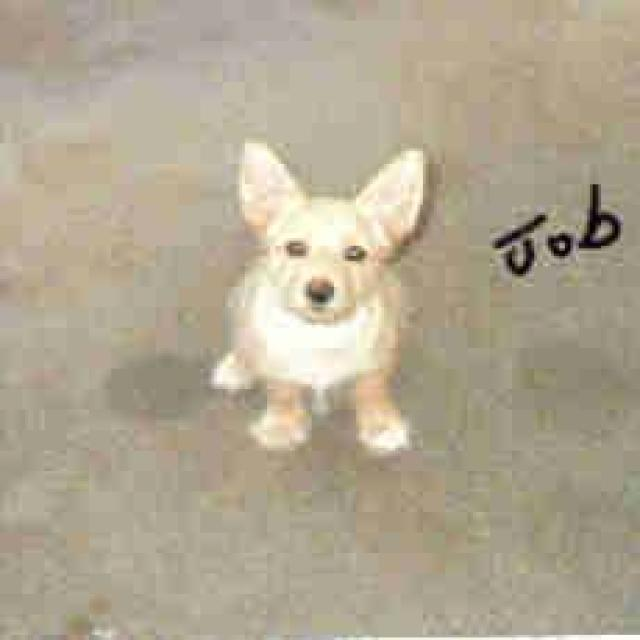dog: (208, 136, 426, 453)
